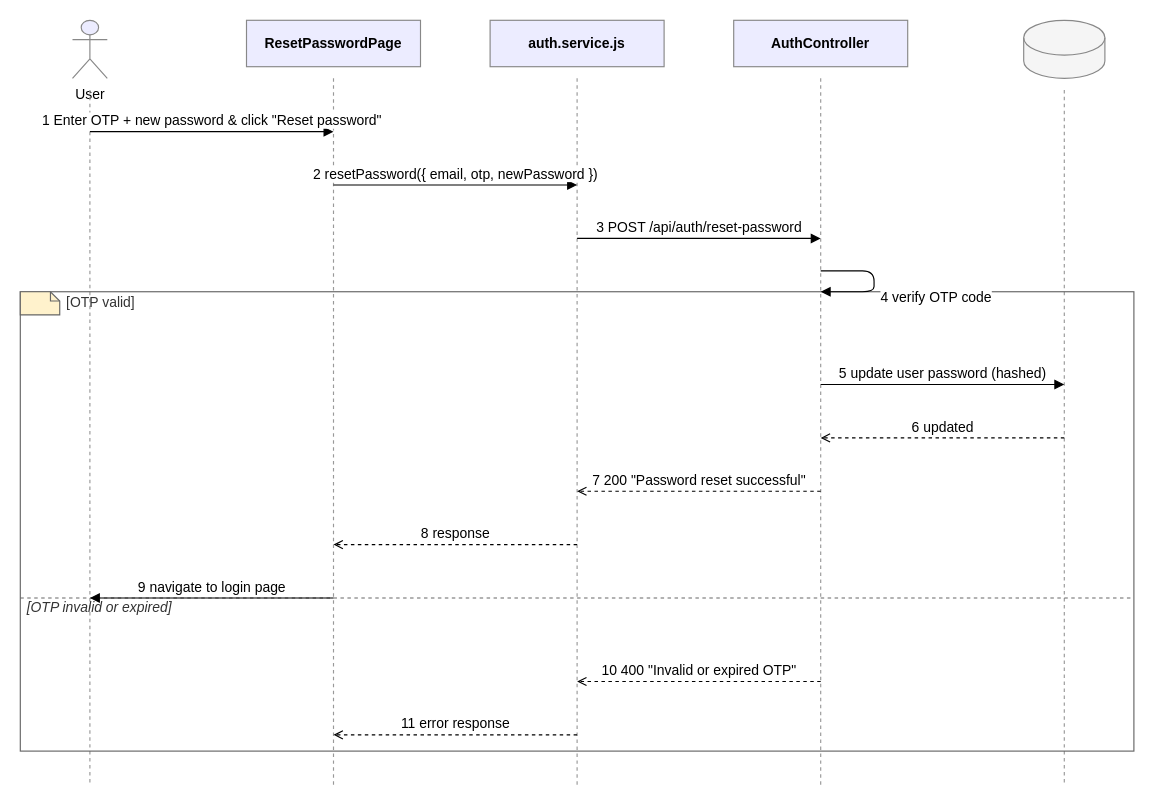
The diagram is 1155 pixels wide and 807 high, and some of its shapes have lost their labels. Here are the shapes that lost their labels. From the top down, the box of each, then its label:
(1023, 19, 1105, 78): MongoDB
(19, 291, 60, 315): alt
